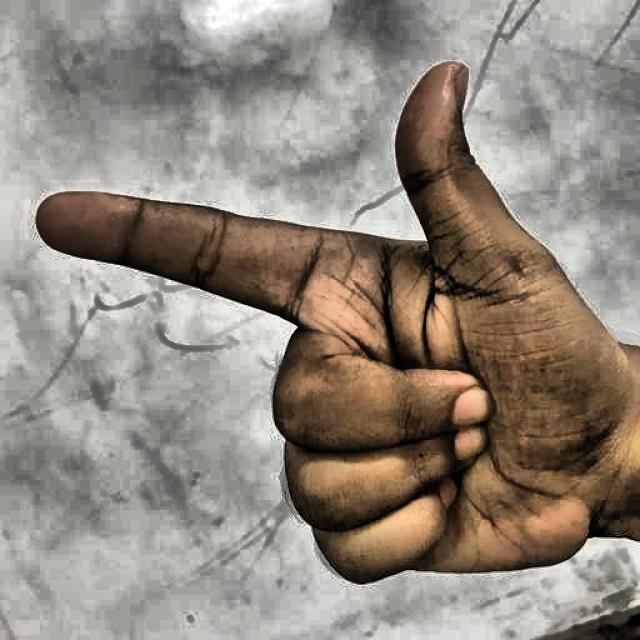Tha: (24, 30, 611, 602)
